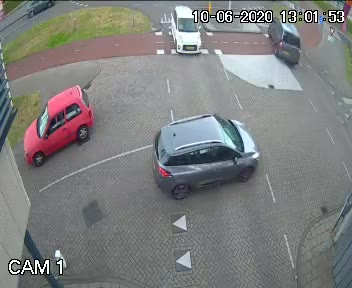car: (153, 110, 266, 194), (11, 82, 99, 169), (167, 4, 202, 58), (263, 19, 300, 64), (24, 0, 52, 24)
